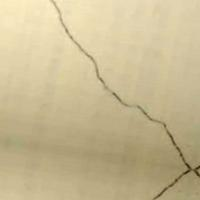crack: (43, 1, 199, 197)
